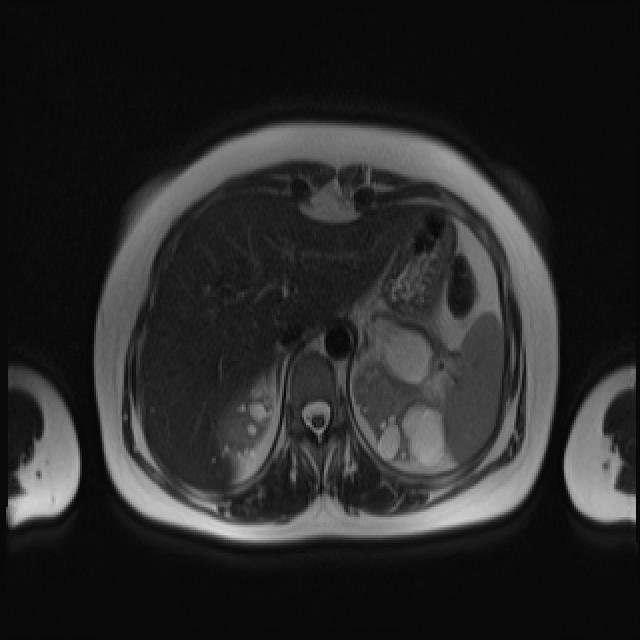sag: (217, 373, 274, 457)
sol: (353, 323, 448, 470)
